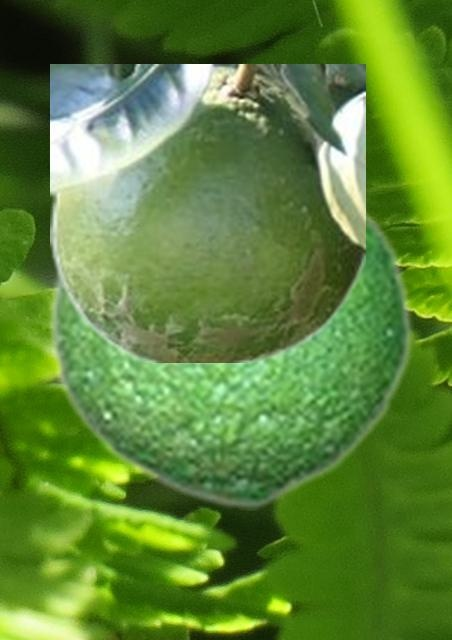dalandan: (45, 200, 413, 509), (50, 64, 364, 361)
